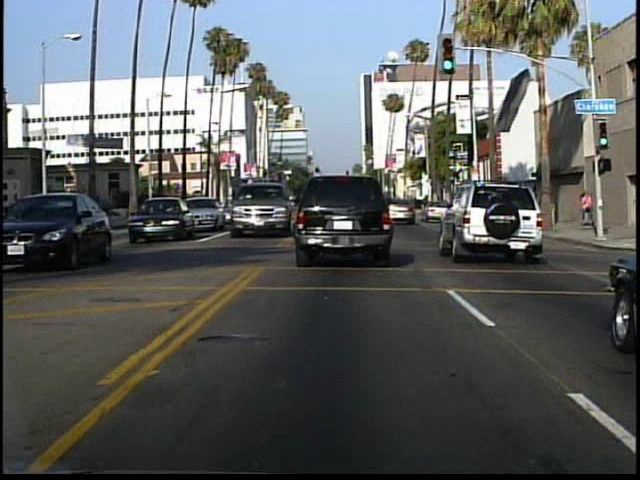person: (580, 187, 595, 228)
